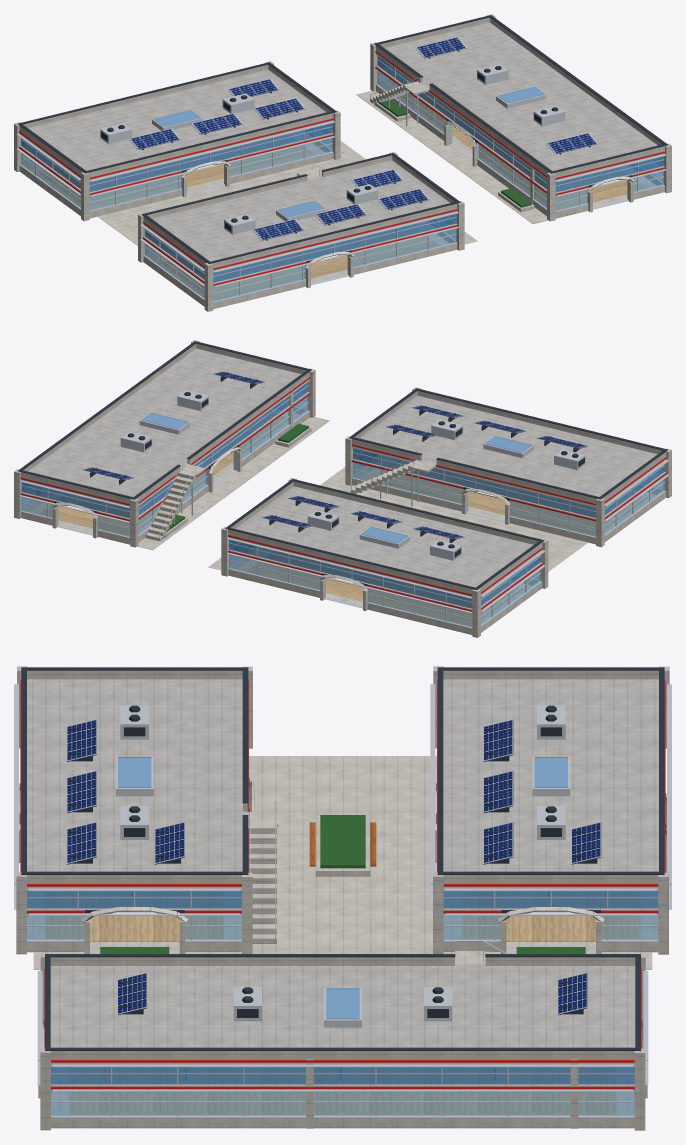
Rendered from landmark_alta_complex.glb.
3 views of the same model, one above another, from view 1: azimuth 30°, elevation 25°; view 2: azimuth 150°, elevation 25°; view 3: azimuth 270°, elevation 25° (orthographic). The views are drawn at different scales.
Visible parts, largest first — view 1: AltaComplex_roof, AltaComplex_conc, AltaComplex_alum, AltaComplex_floor_oak, AltaComplex_glass_up, AltaComplex_glass_lo, AltaComplex_dark, AltaComplex_solar, AltaComplex_plaza, AltaComplex_accent, AltaComplex_floor_conc, AltaComplex_int_wall (+1 smaller); view 2: AltaComplex_roof, AltaComplex_conc, AltaComplex_alum, AltaComplex_floor_oak, AltaComplex_glass_up, AltaComplex_glass_lo, AltaComplex_dark, AltaComplex_plaza, AltaComplex_accent, AltaComplex_solar, AltaComplex_int_wall, AltaComplex_floor_conc; view 3: AltaComplex_roof, AltaComplex_conc, AltaComplex_plaza, AltaComplex_floor_oak, AltaComplex_alum, AltaComplex_glass_up, AltaComplex_glass_lo, AltaComplex_dark, AltaComplex_solar, AltaComplex_accent, AltaComplex_floor_conc, AltaComplex_shrub (+1 smaller).
Part boxes in pixels (x1,y1,x2,y2): AltaComplex_roof: (20,22,664,270); AltaComplex_conc: (14,14,671,311); AltaComplex_alum: (16,59,666,302); AltaComplex_floor_oak: (38,92,646,300); AltaComplex_glass_up: (21,56,663,282); AltaComplex_glass_lo: (21,70,663,301); AltaComplex_dark: (18,15,667,263); AltaComplex_solar: (129,37,597,240); AltaComplex_plaza: (98,91,548,252); AltaComplex_accent: (19,51,665,285); AltaComplex_floor_conc: (30,86,655,306); AltaComplex_int_wall: (19,53,664,272); AltaComplex_roof: (21,348,665,596); AltaComplex_conc: (14,340,671,637); AltaComplex_alum: (19,385,669,628); AltaComplex_floor_oak: (39,412,647,626); AltaComplex_glass_up: (21,382,664,608); AltaComplex_glass_lo: (22,396,664,627); AltaComplex_dark: (18,341,667,589); AltaComplex_plaza: (137,417,587,577); AltaComplex_accent: (20,377,666,611); AltaComplex_solar: (82,371,588,539); AltaComplex_int_wall: (21,379,665,597); AltaComplex_floor_conc: (21,408,655,634); AltaComplex_roof: (27,679,658,1063); AltaComplex_conc: (16,666,669,1130); AltaComplex_plaza: (33,756,652,969); AltaComplex_floor_oak: (46,892,639,1114); AltaComplex_alum: (14,684,671,1117); AltaComplex_glass_up: (27,757,658,1084); AltaComplex_glass_lo: (27,914,658,1115); AltaComplex_dark: (19,667,666,1050); AltaComplex_solar: (66,719,601,1015); AltaComplex_accent: (20,680,665,1089); AltaComplex_floor_conc: (27,891,657,1128); AltaComplex_shrub: (100,815,585,953).
Bounding box in the file's own units: 77.3 × 8.06 × 55.3.
16 materials, 7 textured.
